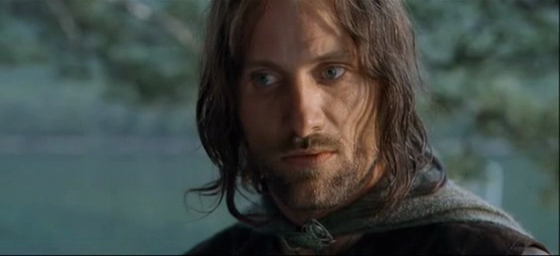cu: (1, 1, 560, 256)
face: (241, 13, 369, 216)
person: (179, 1, 549, 256)
